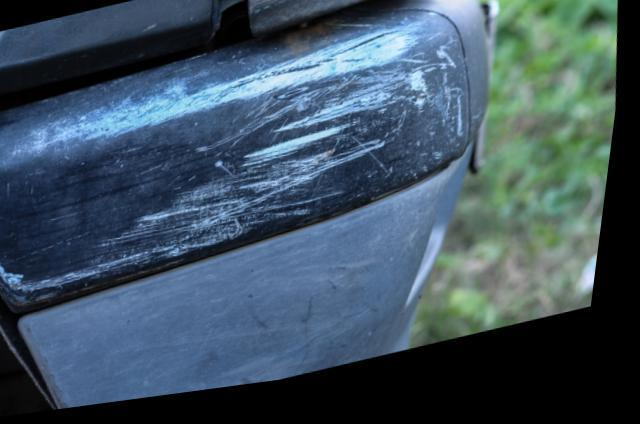scratch: (0, 34, 472, 307)
